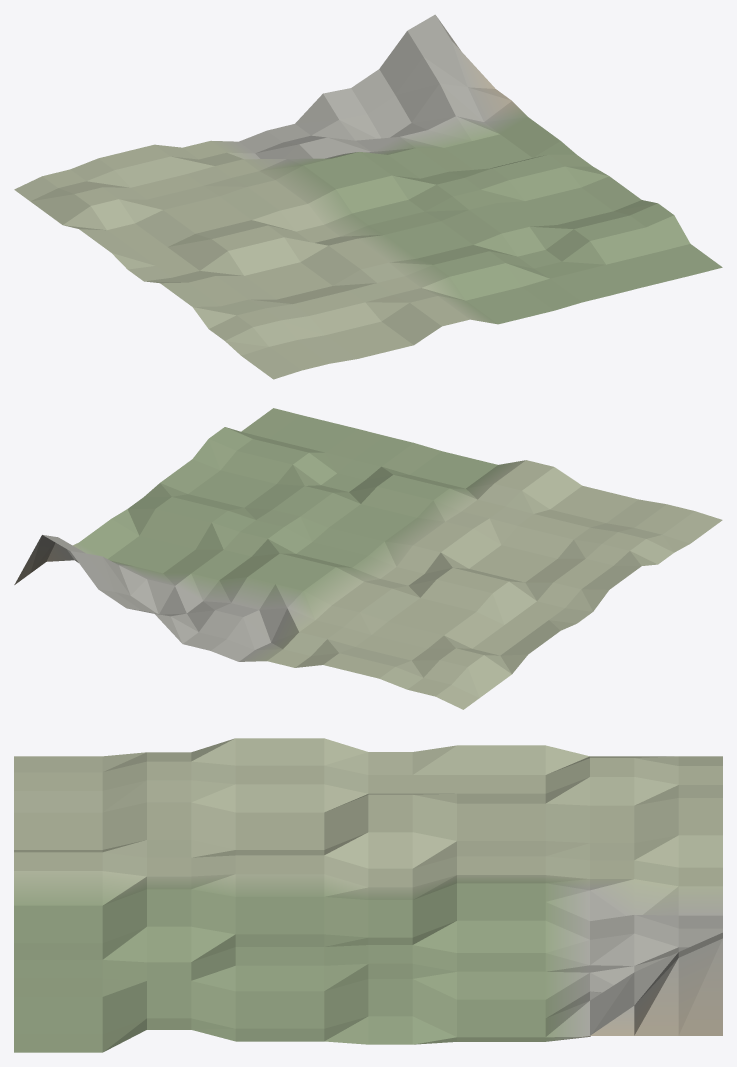
The picture shows the model from 3 angles, top to bottom: view 1: azimuth 30°, elevation 25°; view 2: azimuth 150°, elevation 25°; view 3: azimuth 270°, elevation 25°; orthographic projection. The views are drawn at different scales.
Bounding box in the file's own units: 32 × 5.69 × 32.
